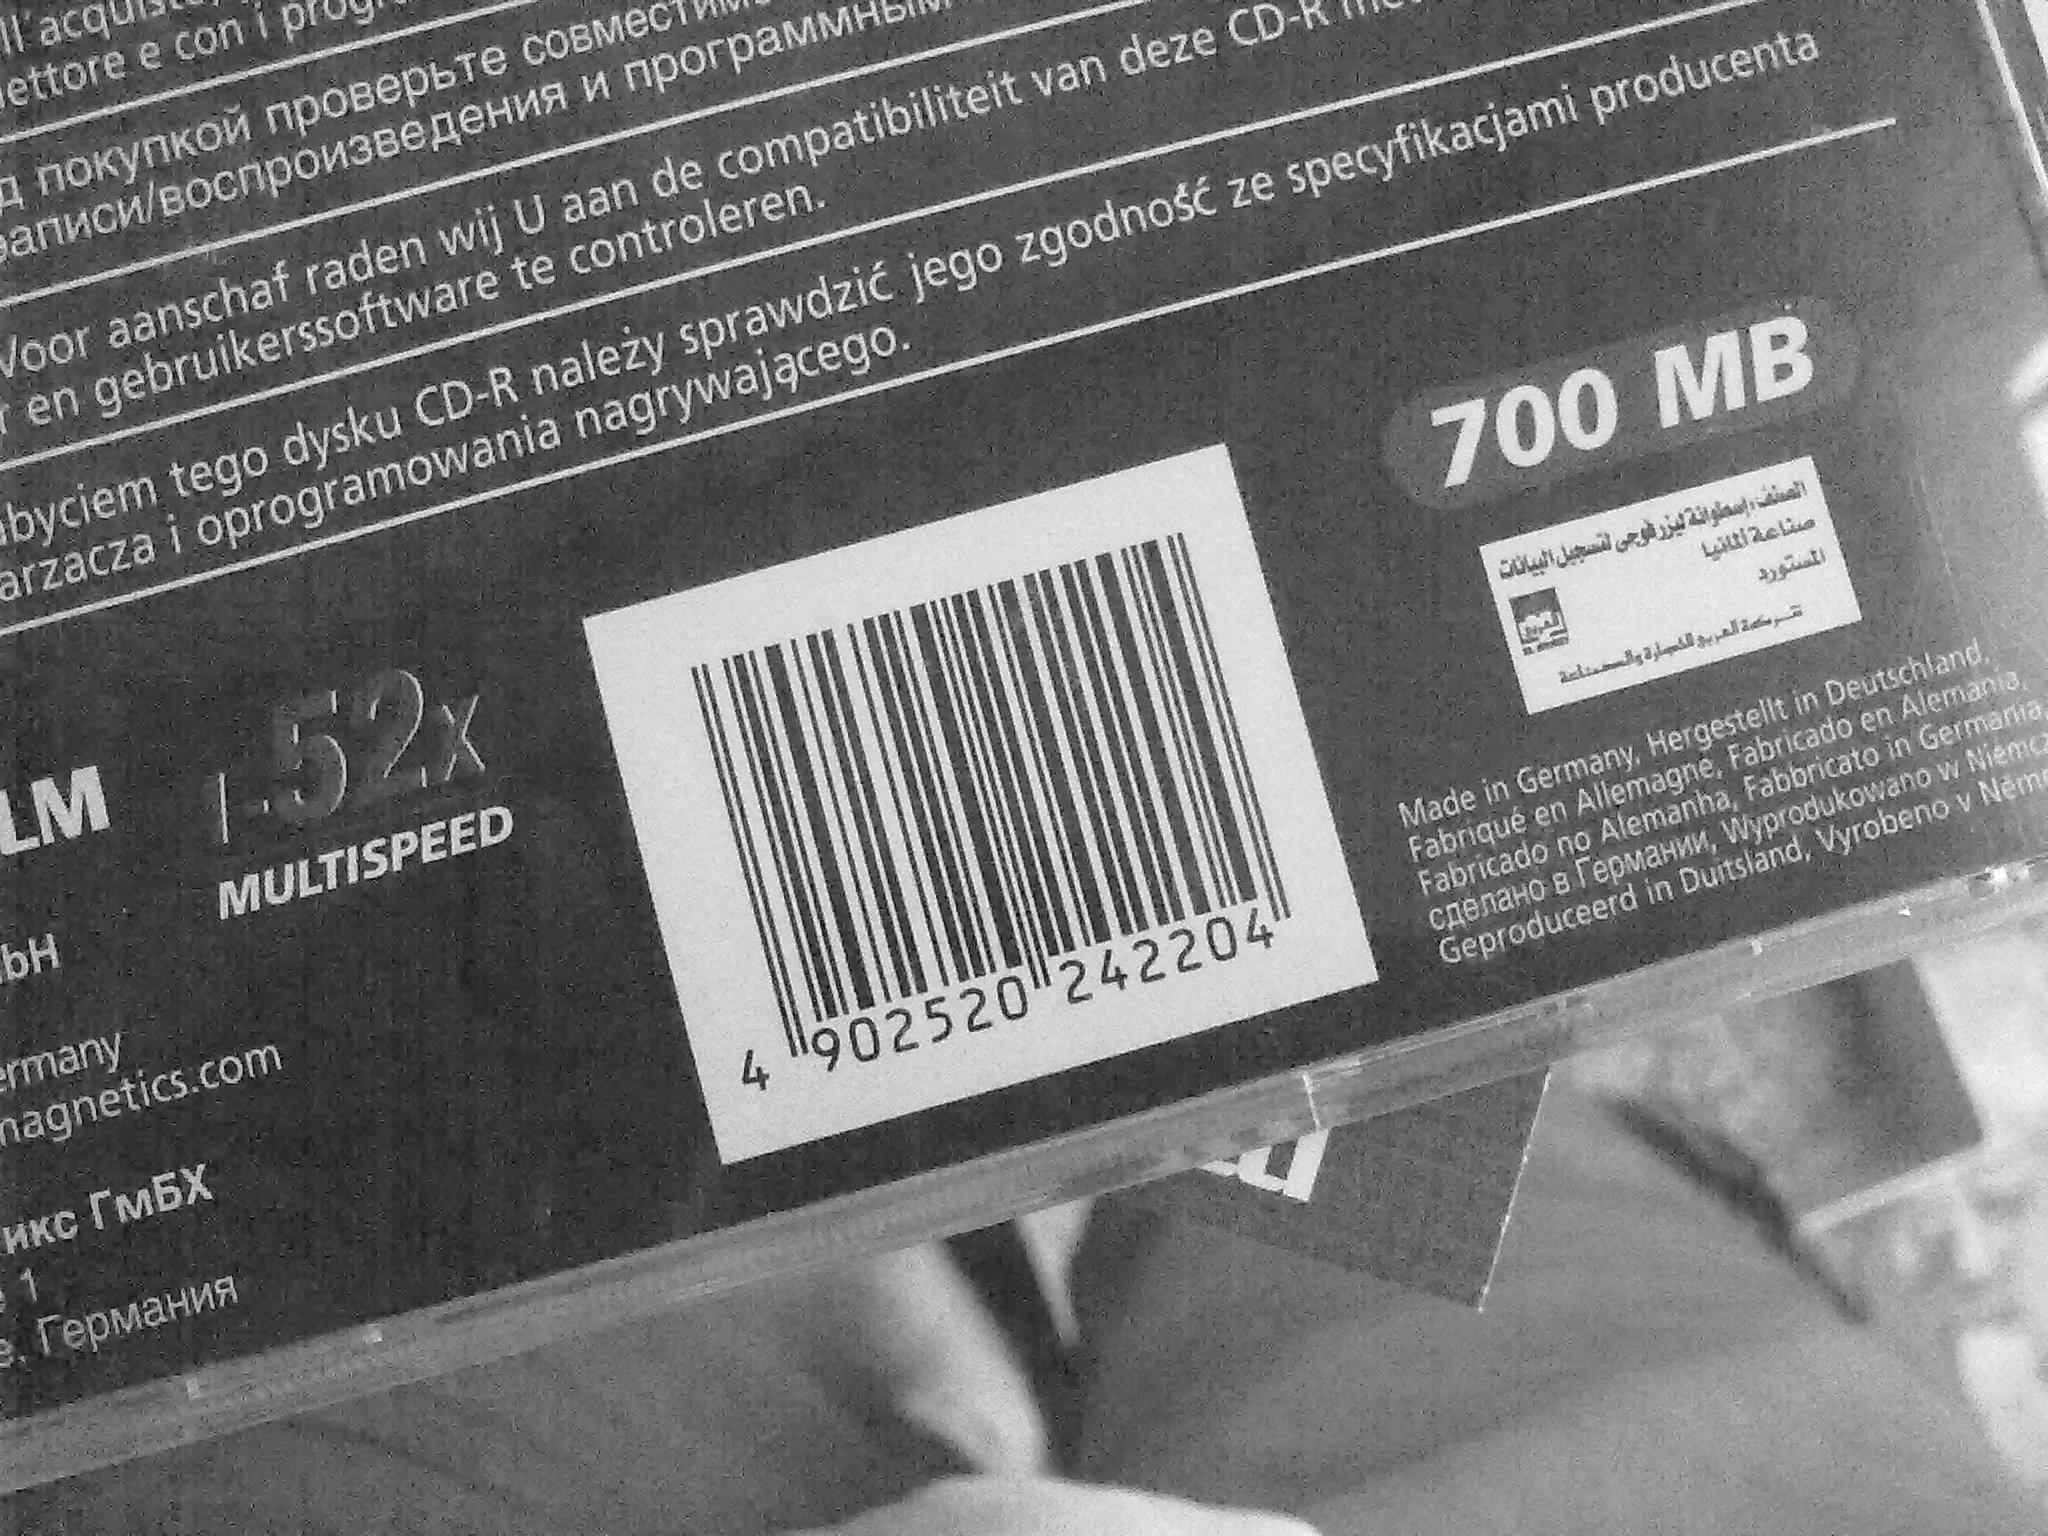Barcode: (598, 552, 1340, 1066)
